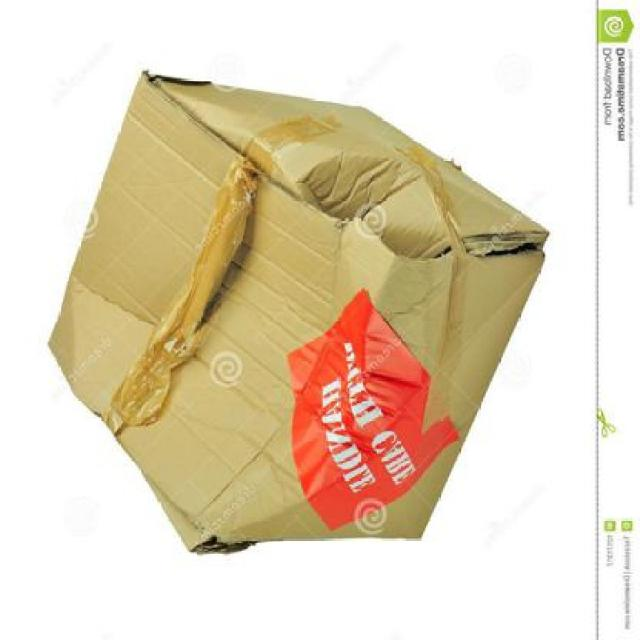defect: (52, 74, 551, 558)
